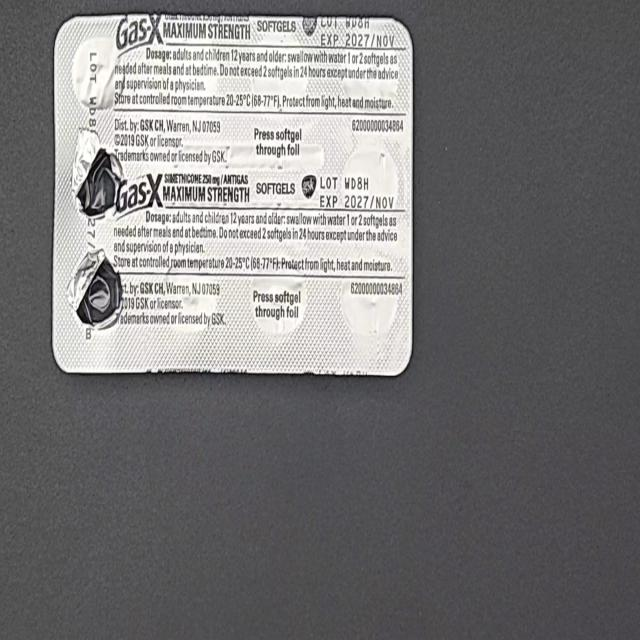defect: (64, 246, 125, 334), (70, 125, 124, 224)
